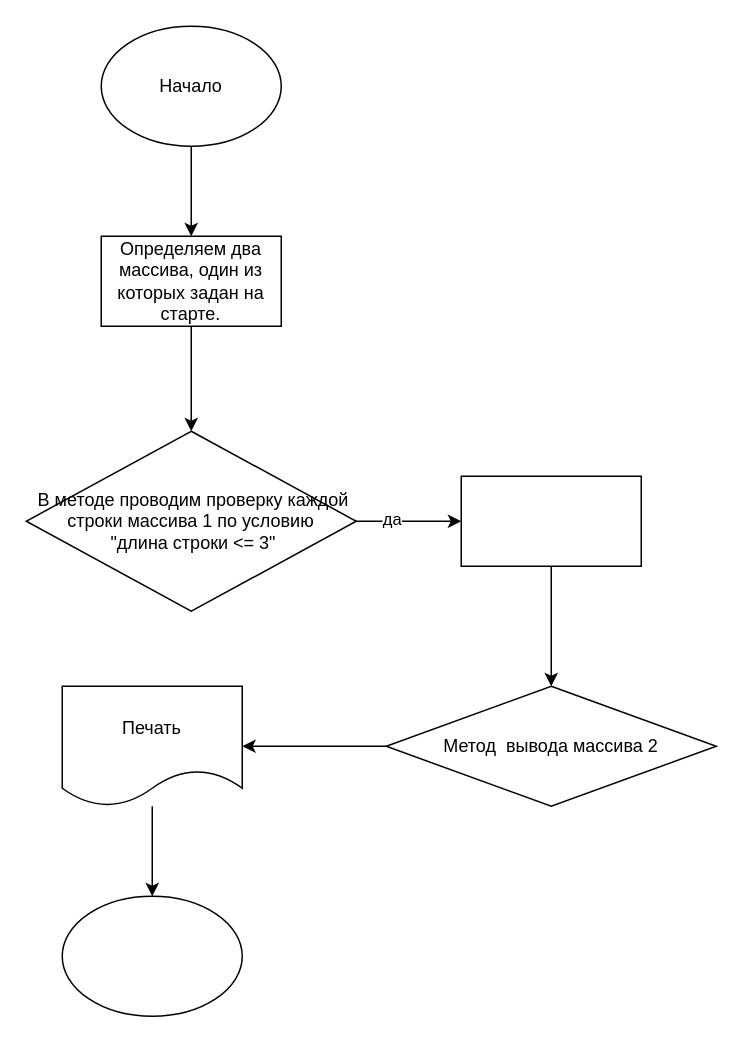
This 743x1043 diagram has some shape labels left out. Each missing label, with the centre of its shape:
"Записываем элемент во второй массив" goes at [550,520].
"Конец" goes at [151,955].
